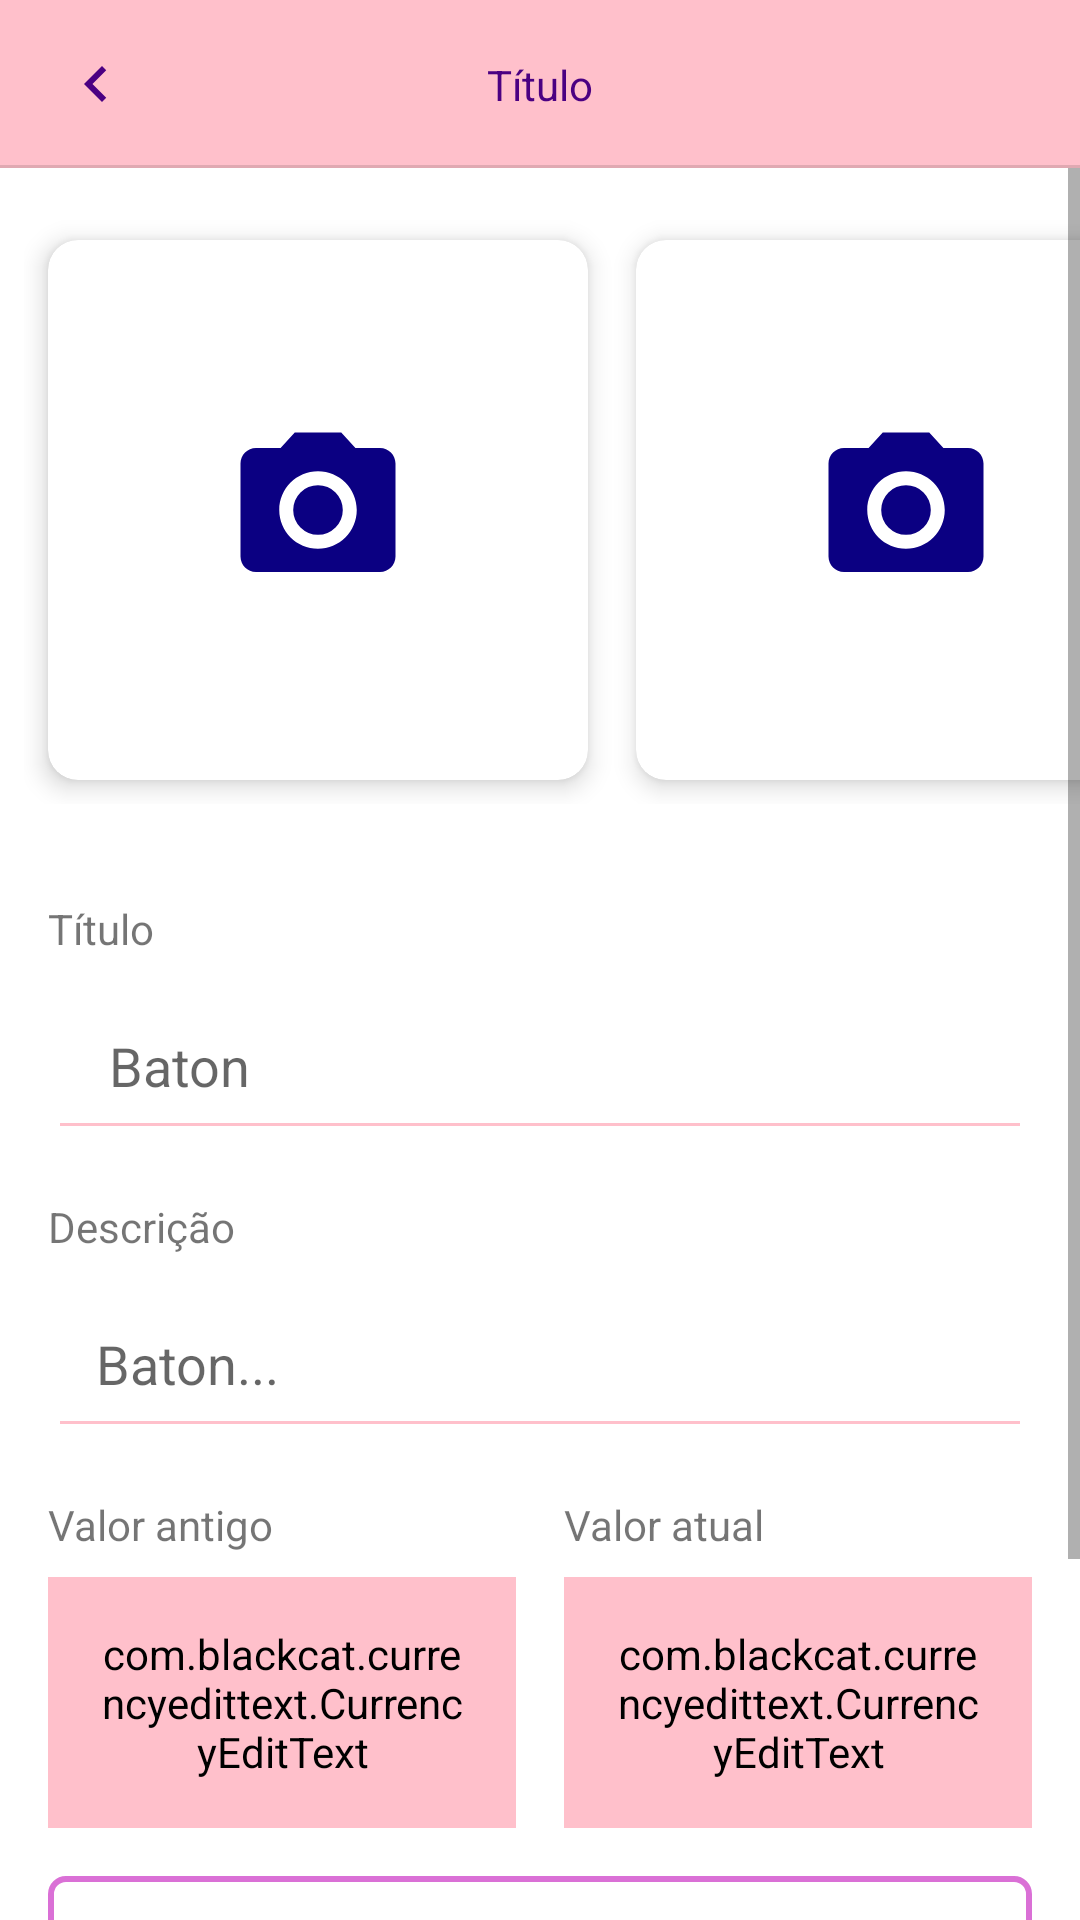

Icons on this 1080x1920 Android screen, each with its box as (x1, y1, x2, y2):
photo: (240, 432, 396, 572), (828, 432, 984, 572)
voltar: (84, 66, 106, 102)
